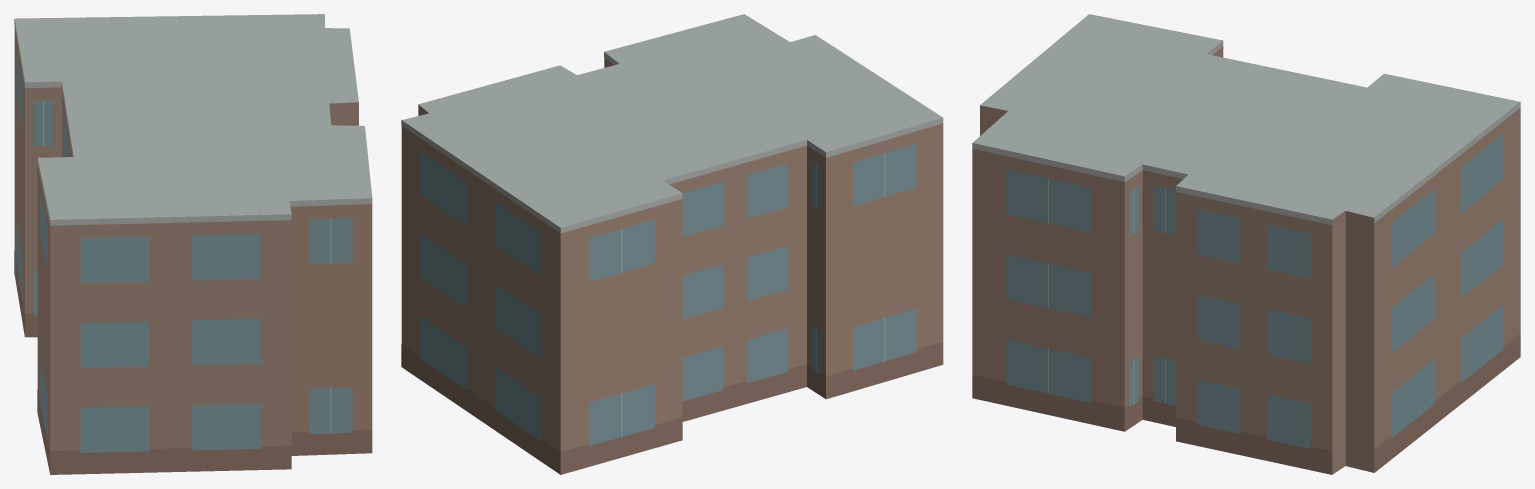
File: survey-upis-32525221.glb
3 views of the same model, side by side, from view 1: azimuth 30°, elevation 25°; view 2: azimuth 150°, elevation 25°; view 3: azimuth 270°, elevation 25° (orthographic). The views are drawn at different scales.
Visible parts, largest first — view 1: survey-upis-32525221.tmp; view 2: survey-upis-32525221.tmp; view 3: survey-upis-32525221.tmp.
Boxes of the visible parts, x1,y1,x2,y2 form: survey-upis-32525221.tmp: (14,14,372,474); survey-upis-32525221.tmp: (401,14,943,474); survey-upis-32525221.tmp: (972,14,1520,474).
Size of the model in its own units: 18.66 by 10.8 by 21.02.
